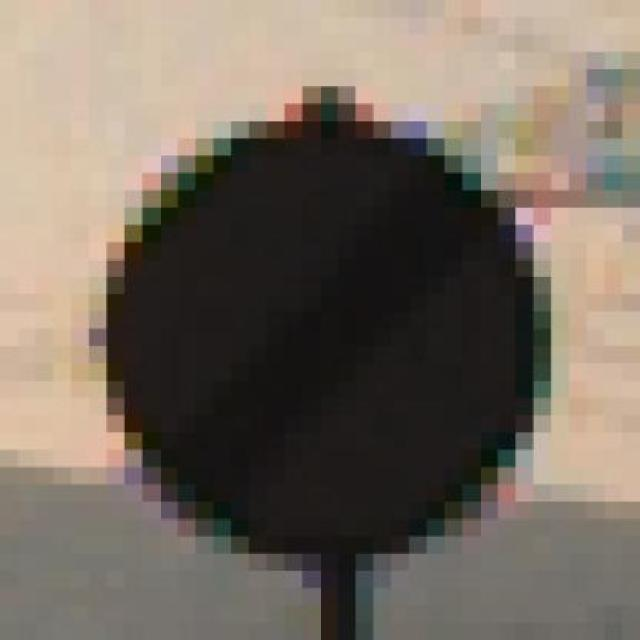End of all speed and passing limits: (53, 69, 569, 554)
